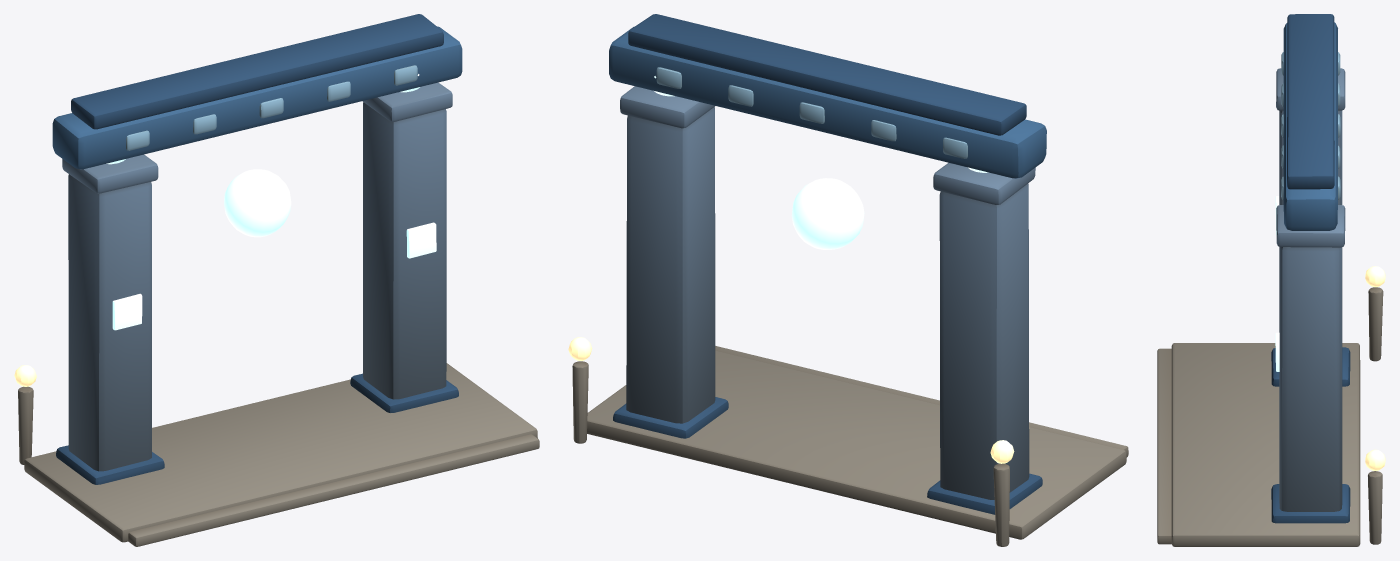
The picture shows the model from 3 angles, left to right: view 1: azimuth 30°, elevation 25°; view 2: azimuth 150°, elevation 25°; view 3: azimuth 270°, elevation 25°; orthographic projection. The views are drawn at different scales.
Visible parts, largest first — view 1: gate_b8503fba; view 2: gate_b8503fba; view 3: gate_b8503fba.
Boxes of the visible parts, bbox=[...] form: gate_b8503fba: bbox=[14, 14, 539, 546]; gate_b8503fba: bbox=[568, 14, 1128, 546]; gate_b8503fba: bbox=[1157, 14, 1385, 546].
Bounding box in the file's own units: 5.1 × 4.4 × 2.54.
